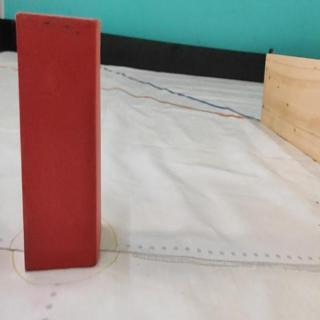redbox: (16, 11, 103, 270)
